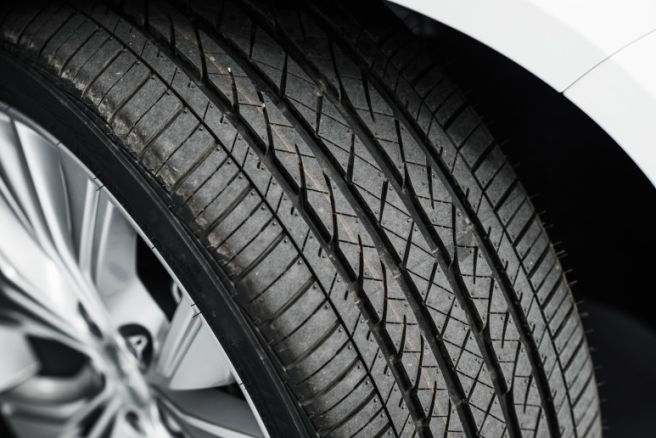new_condition: (71, 2, 603, 435)
